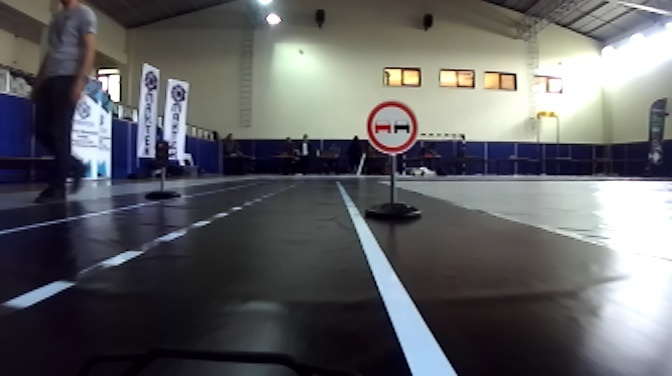sollama_yasak: (367, 101, 419, 156)
